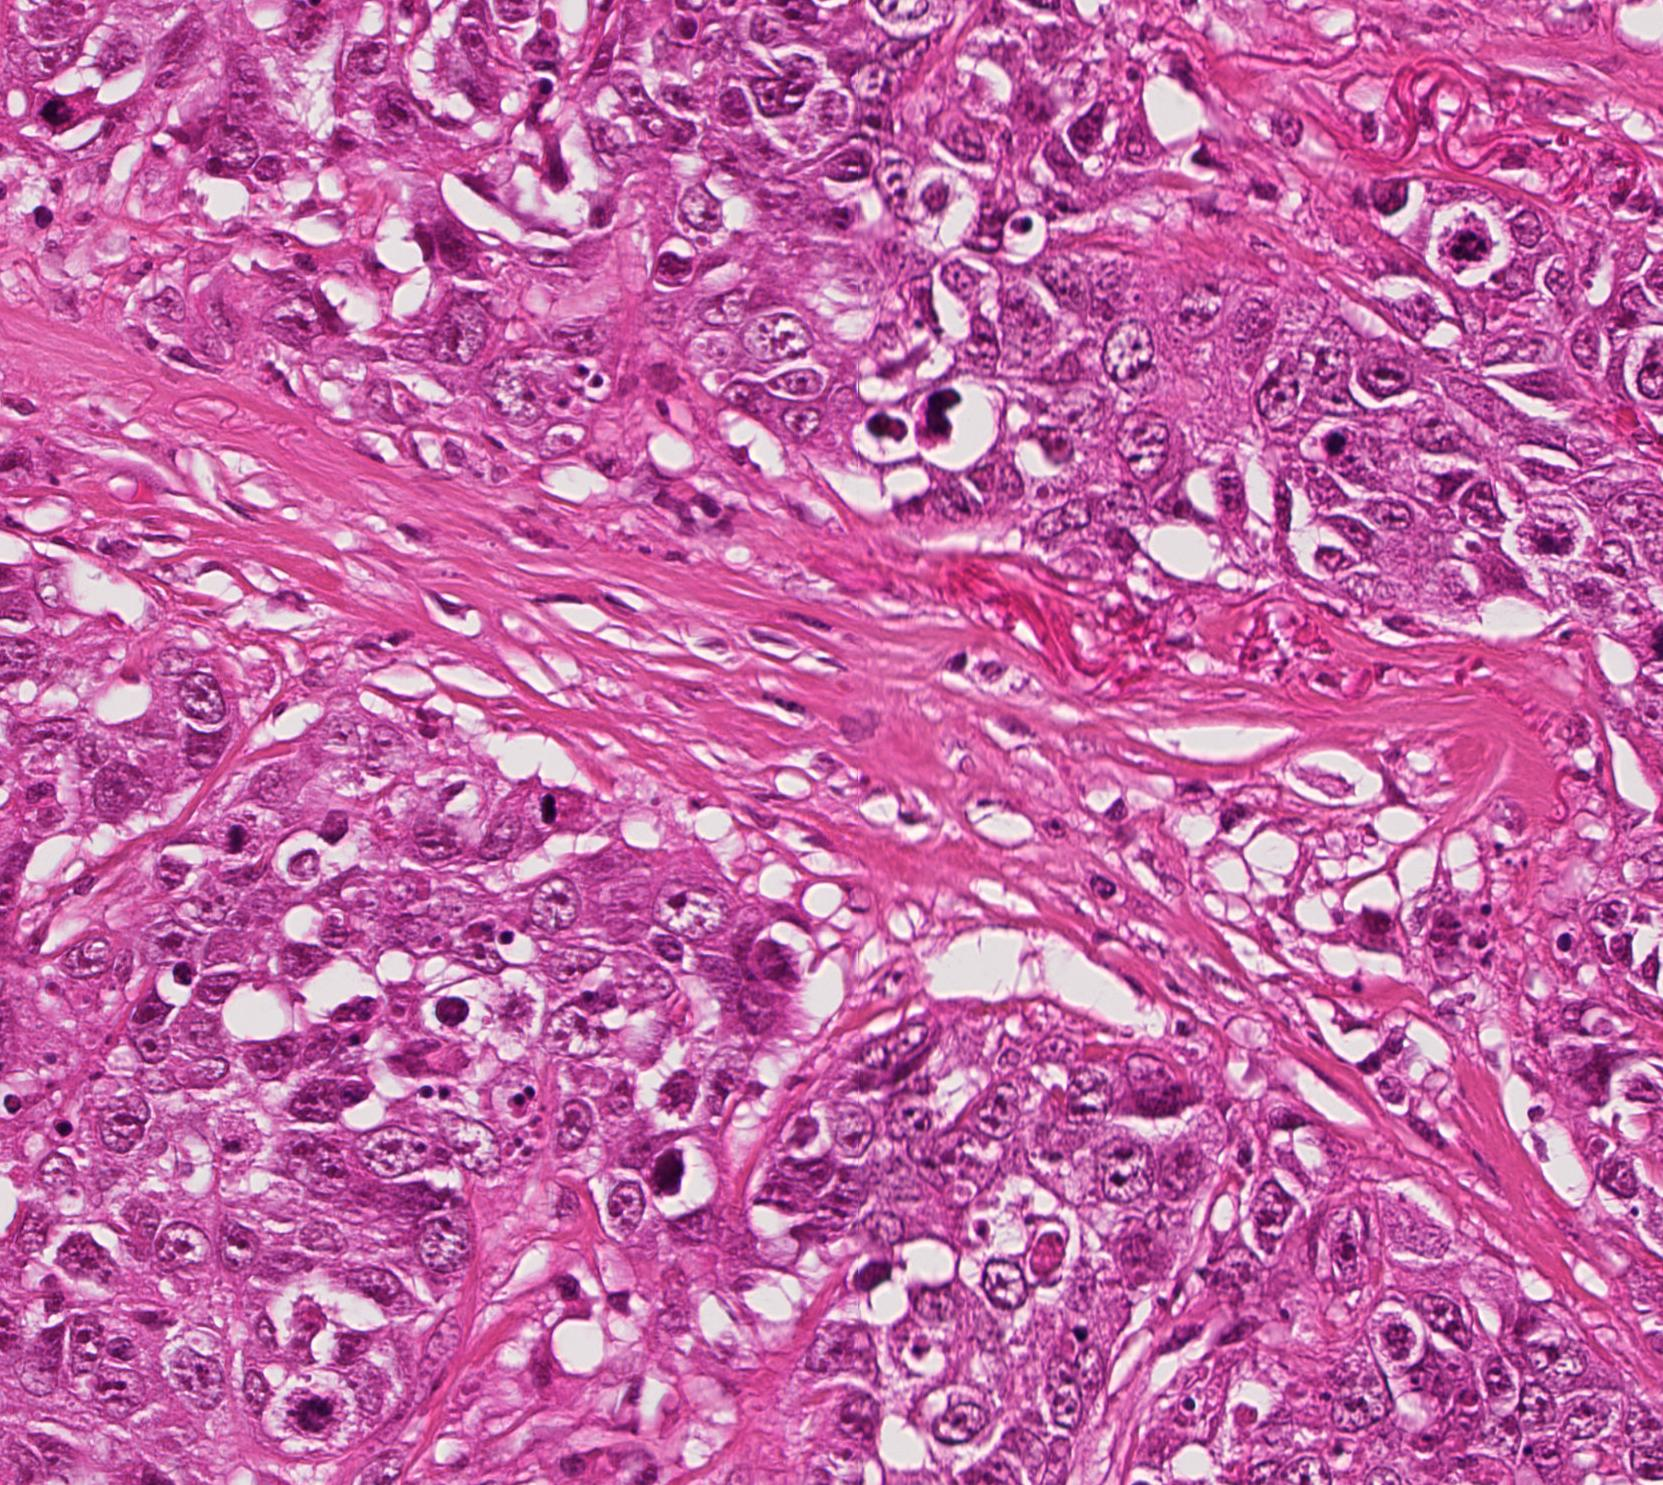mitosis: (272, 1385, 333, 1443)
